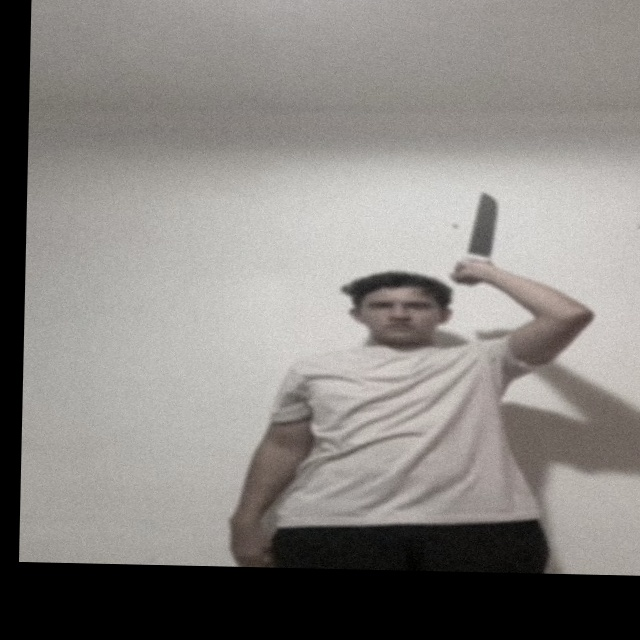Sharp-Object: (469, 187, 503, 257)
